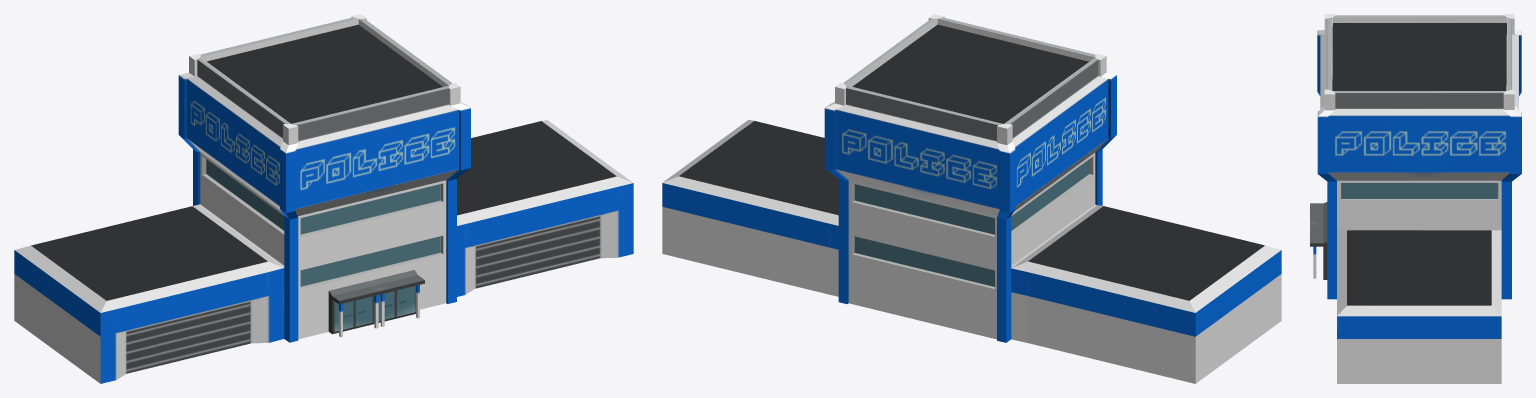
File: Police Station.fbx
3 renders of one model, left to right at view 1: azimuth 30°, elevation 25°; view 2: azimuth 150°, elevation 25°; view 3: azimuth 270°, elevation 25°, orthographic. The views are drawn at different scales.
Parts seen in each view (by area): view 1: Police Station; view 2: Police Station; view 3: Police Station.
Boxes of the visible parts, x1,y1,x2,y2 form: Police Station: (14,14,633,383); Police Station: (662,14,1281,383); Police Station: (1310,14,1521,383).
Bounding box in the file's own units: 1637 × 633 × 590.
